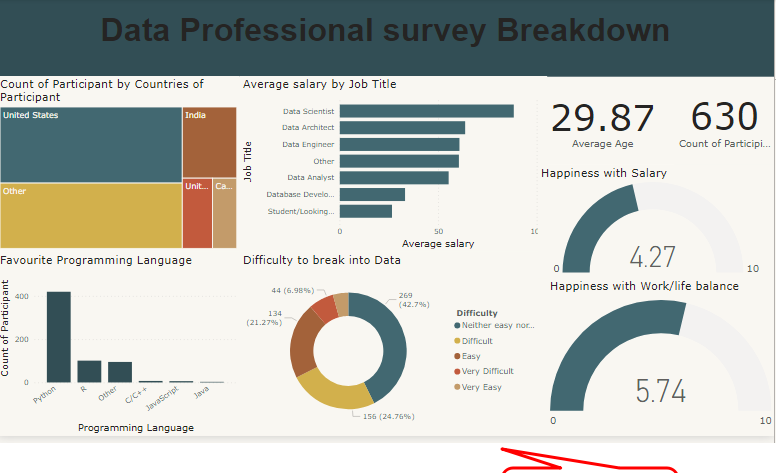

Layout of this report page (visuals, bound fields, positions):
{"tool":"powerbi","page":{"name":"Page 1","canvas":[1280,720],"ordinal":0},"visuals":[{"type":"card","fields":{"Values":["Count(Data Professional Survey.Unique ID)"]},"box":[1116.3,127.3,163.7,145.5],"z":0},{"type":"textbox","box":[0,0,1280,127.7],"z":1000},{"type":"card","fields":{"Values":["Avg(Data Professional Survey.Q10 - Current Age)"]},"box":[879.6,128,236.3,144.4],"z":2000},{"type":"clusteredBarChart","fields":{"Y":["Avg(Data Professional Survey.average salary)"],"Category":["Data Professional Survey.Q1 - Which Title Best Fits your Current Role?.1"]},"box":[400.3,128.5,505.7,288.3],"z":3000},{"type":"columnChart","title":"Favourite Programming Language","fields":{"Y":["Count(Data Professional Survey.Unique ID)"],"Category":["Data Professional Survey.Q5 - Favorite Programming Language.1"]},"box":[0,416.7,400.2,302.6],"z":4000},{"type":"treemap","fields":{"Group":["Data Professional Survey.Q11 - Which Country do you live in?.1"],"Values":["CountNonNull(Data Professional Survey.Unique ID)"]},"box":[0,128.5,400.3,288.3],"z":5000},{"type":"donutChart","title":"Difficulty to break into Data","fields":{"Y":["CountNonNull(Data Professional Survey.Unique ID)"],"Category":["Data Professional Survey.Q7 - How difficult was it for you to break into Data?"]},"box":[400,417,506,303],"z":6000},{"type":"gauge","title":"Happiness with Salary","fields":{"Y":["Avg(Data Professional Survey.Q6 - How Happy are you in your Current Position with the following? (Salary))"],"MinValue":["Min(Data Professional Survey.Q6 - How Happy are you in your Current Position with the following? (Salary))"],"MaxValue":["Max(Data Professional Survey.Q6 - How Happy are you in your Current Position with the following? (Salary))"]},"box":[891.4,272.9,388.6,186.9],"z":7000},{"type":"gauge","title":"Happiness with Work/life balance","fields":{"Y":["Avg(Data Professional Survey.Q6 - How Happy are you in your Current Position with the following? (Work/Life Balance))"],"MinValue":["Min(Data Professional Survey.Q6 - How Happy are you in your Current Position with the following? (Work/Life Balance))"],"MaxValue":["Max(Data Professional Survey.Q6 - How Happy are you in your Current Position with the following? (Work/Life Balance))"]},"box":[905.5,459.9,374.5,260.7],"z":8000}]}

Visuals, with their boxes on the page's 1280x720 design canvas (x1, y1, x2, y2). These are canvas units, not pixel positions in the 777x474 screenshot, which may show the page scaled, cropped or inside an application window:
card - Count(Data Professional Survey.Unique ID): [left=1116, top=127, right=1280, bottom=273]
textbox: [left=0, top=0, right=1280, bottom=128]
card - Avg(Data Professional Survey.Q10 - Current Age): [left=880, top=128, right=1116, bottom=272]
clusteredBarChart - Avg(Data Professional Survey.average salary) x Data Professional Survey.Q1 - Which Title Best Fits your Current Role?.1: [left=400, top=128, right=906, bottom=417]
"Favourite Programming Language" columnChart: [left=0, top=417, right=400, bottom=719]
treemap - Data Professional Survey.Q11 - Which Country do you live in?.1 x CountNonNull(Data Professional Survey.Unique ID): [left=0, top=128, right=400, bottom=417]
"Difficulty to break into Data" donutChart: [left=400, top=417, right=906, bottom=720]
"Happiness with Salary" gauge: [left=891, top=273, right=1280, bottom=460]
"Happiness with Work/life balance" gauge: [left=906, top=460, right=1280, bottom=721]
